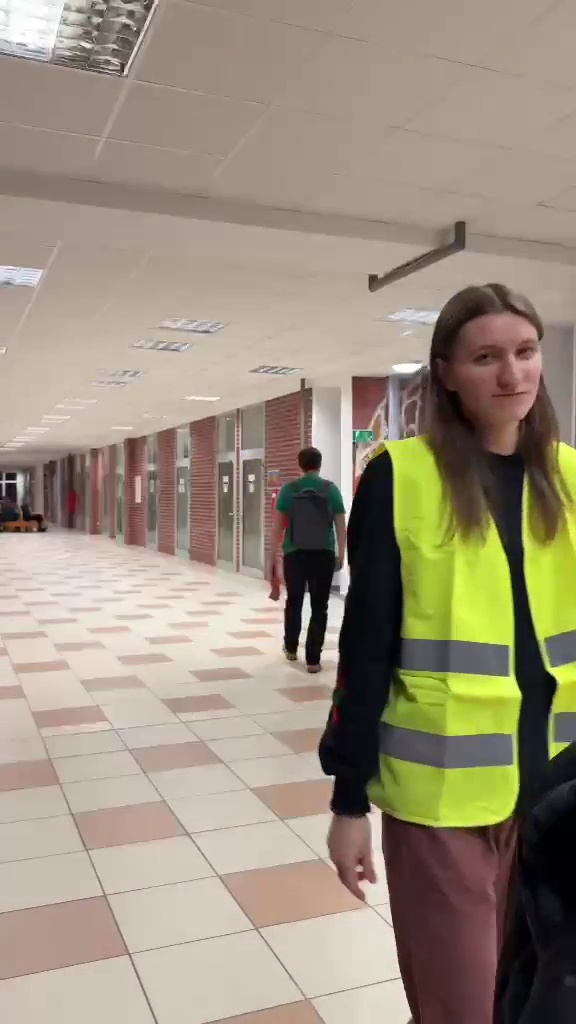no vest: (272, 444, 347, 650)
vest: (372, 285, 576, 1003)
